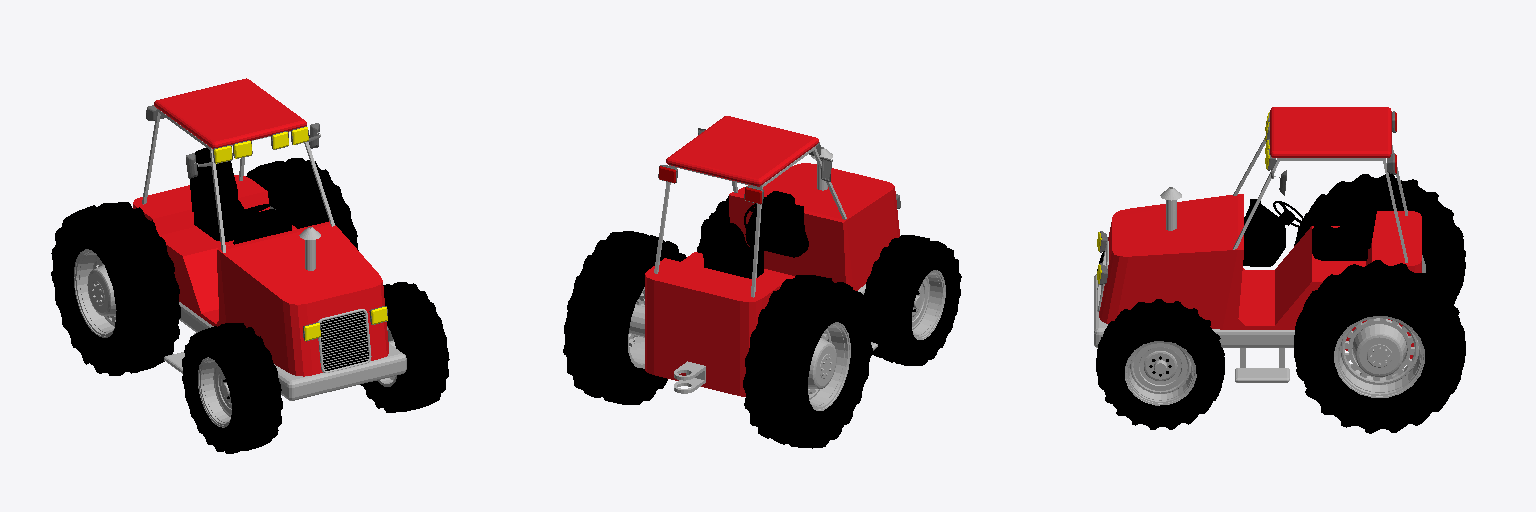
3 views of the same model, side by side, from view 1: azimuth 30°, elevation 25°; view 2: azimuth 150°, elevation 25°; view 3: azimuth 270°, elevation 25° (orthographic).
Parts seen in each view (by area): view 1: main_body, tyre_B, tyre_FR, tyre_FL, roof, chair, botom_body, Rim_B, rim_FR, inside_grill, window, meter_board (+4 smaller); view 2: tyre_B, main_body, tyre_FR, roof, Rim_B, chair, meter_board, rim_FR, window, conector; view 3: tyre_B, main_body, tyre_FL, roof, Rim_B, rim_FL, chair, meter_board, botom_body, window, L_ladder, exoz.
Boxes of the visible parts, box(x1,y1,x2,y2) form: main_body: box(133, 175, 388, 376); tyre_B: box(51, 158, 358, 375); tyre_FR: box(182, 323, 282, 453); tyre_FL: box(360, 282, 449, 412); roof: box(154, 78, 306, 148); chair: box(190, 148, 270, 241); botom_body: box(179, 302, 406, 400); Rim_B: box(74, 206, 275, 337); rim_FR: box(198, 357, 231, 427); inside_grill: box(320, 311, 368, 370); window: box(142, 109, 334, 252); meter_board: box(233, 209, 291, 244); tyre_B: box(563, 231, 872, 448); main_body: box(645, 163, 899, 396); tyre_FR: box(863, 235, 961, 365); roof: box(666, 116, 818, 186); Rim_B: box(628, 287, 850, 410); chair: box(701, 201, 781, 278); meter_board: box(745, 191, 808, 257); rim_FR: box(912, 270, 945, 339); window: box(654, 146, 846, 297); conector: box(674, 361, 705, 393); tyre_B: box(1294, 173, 1465, 433); main_body: box(1099, 194, 1421, 358); tyre_FL: box(1096, 299, 1224, 429); roof: box(1270, 107, 1391, 157); Rim_B: box(1334, 255, 1425, 397); rim_FL: box(1125, 341, 1196, 405); chair: box(1273, 180, 1379, 260); meter_board: box(1243, 199, 1285, 266); botom_body: box(1094, 274, 1294, 347); window: box(1233, 136, 1407, 262); L_ladder: box(1235, 348, 1289, 382); exoz: box(1160, 187, 1181, 230).
Bounding box in the file's own units: 2.03 × 2.09 × 2.78.
Materials: 14 (4 with a texture image).